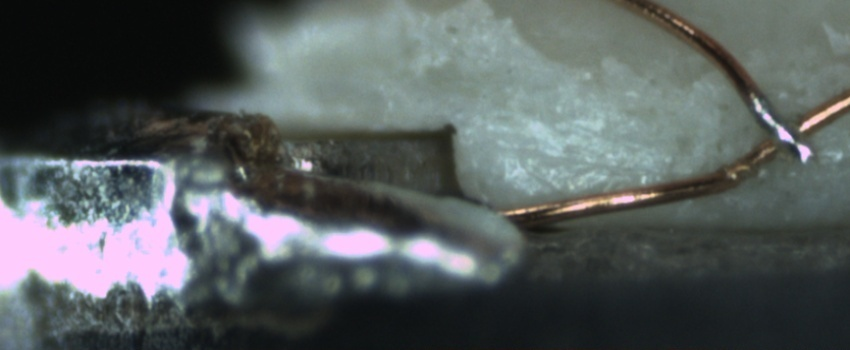CL: (744, 84, 817, 172)
DL: (523, 140, 715, 183)
